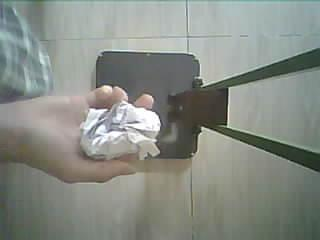paper: (81, 101, 161, 160)
